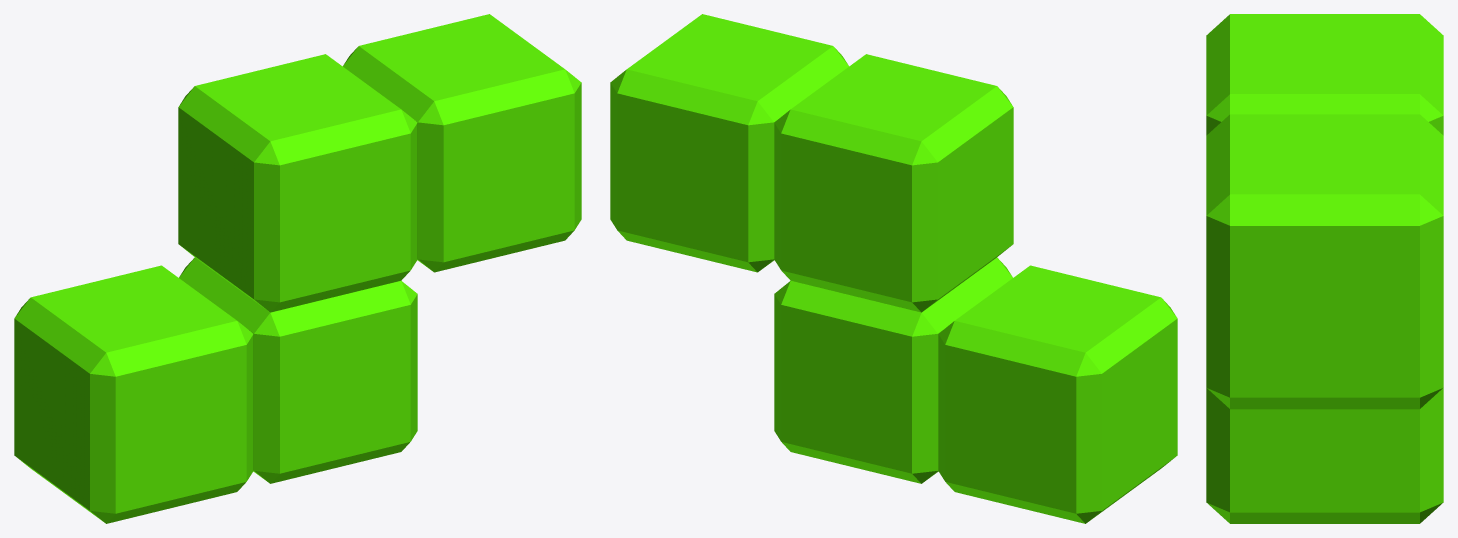
The model's file is Tetris_S.fbx.
3 views of the same model, side by side, from view 1: azimuth 30°, elevation 25°; view 2: azimuth 150°, elevation 25°; view 3: azimuth 270°, elevation 25° (orthographic). The views are drawn at different scales.
Visible parts, largest first — view 1: Box100; view 2: Box100; view 3: Box100.
Part boxes in pixels (box(x1,y1,x2,y2)): Box100: box(14, 14, 581, 523); Box100: box(610, 14, 1177, 523); Box100: box(1206, 14, 1443, 523).
Size of the model in its own units: 300 by 200 by 100.
